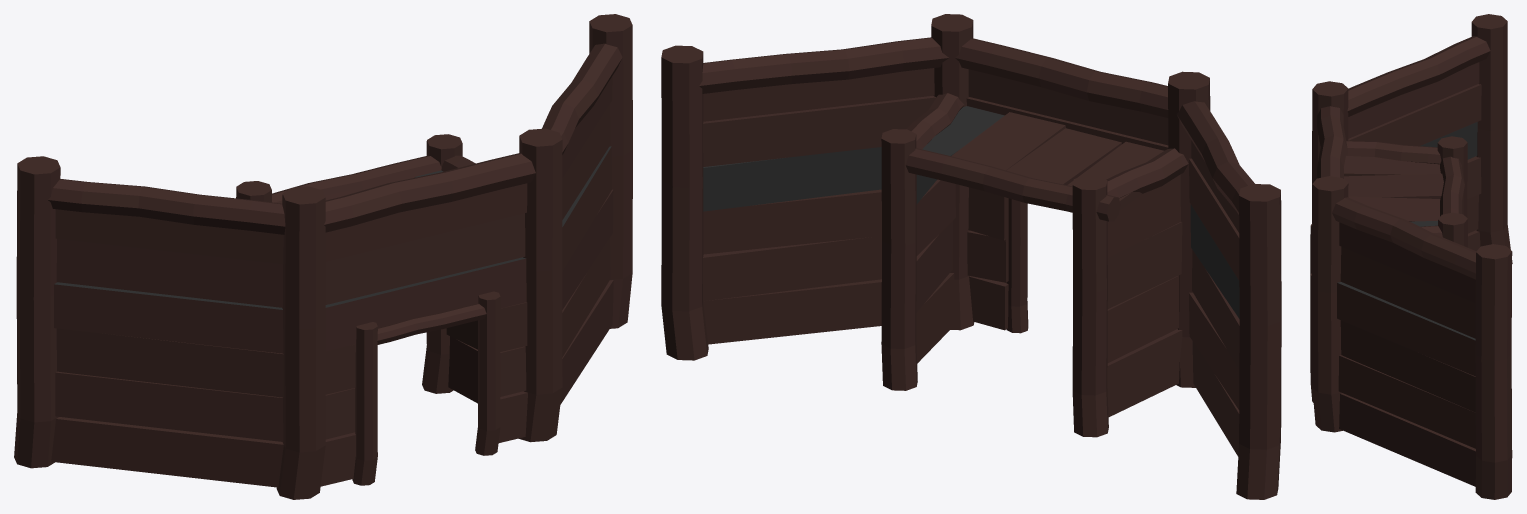
The model's file is env_entranceCueva.fbx.
3 renders of one model, left to right at view 1: azimuth 30°, elevation 25°; view 2: azimuth 150°, elevation 25°; view 3: azimuth 270°, elevation 25°, orthographic. The views are drawn at different scales.
Visible parts, largest first — view 1: env_cave-natural2.349; view 2: env_cave-natural2.349; view 3: env_cave-natural2.349.
Boxes of the visible parts, x1,y1,x2,y2 form: env_cave-natural2.349: (14, 14, 632, 499); env_cave-natural2.349: (661, 14, 1281, 499); env_cave-natural2.349: (1310, 14, 1512, 499).
Bounding box in the file's own units: 1736 × 807 × 604.
